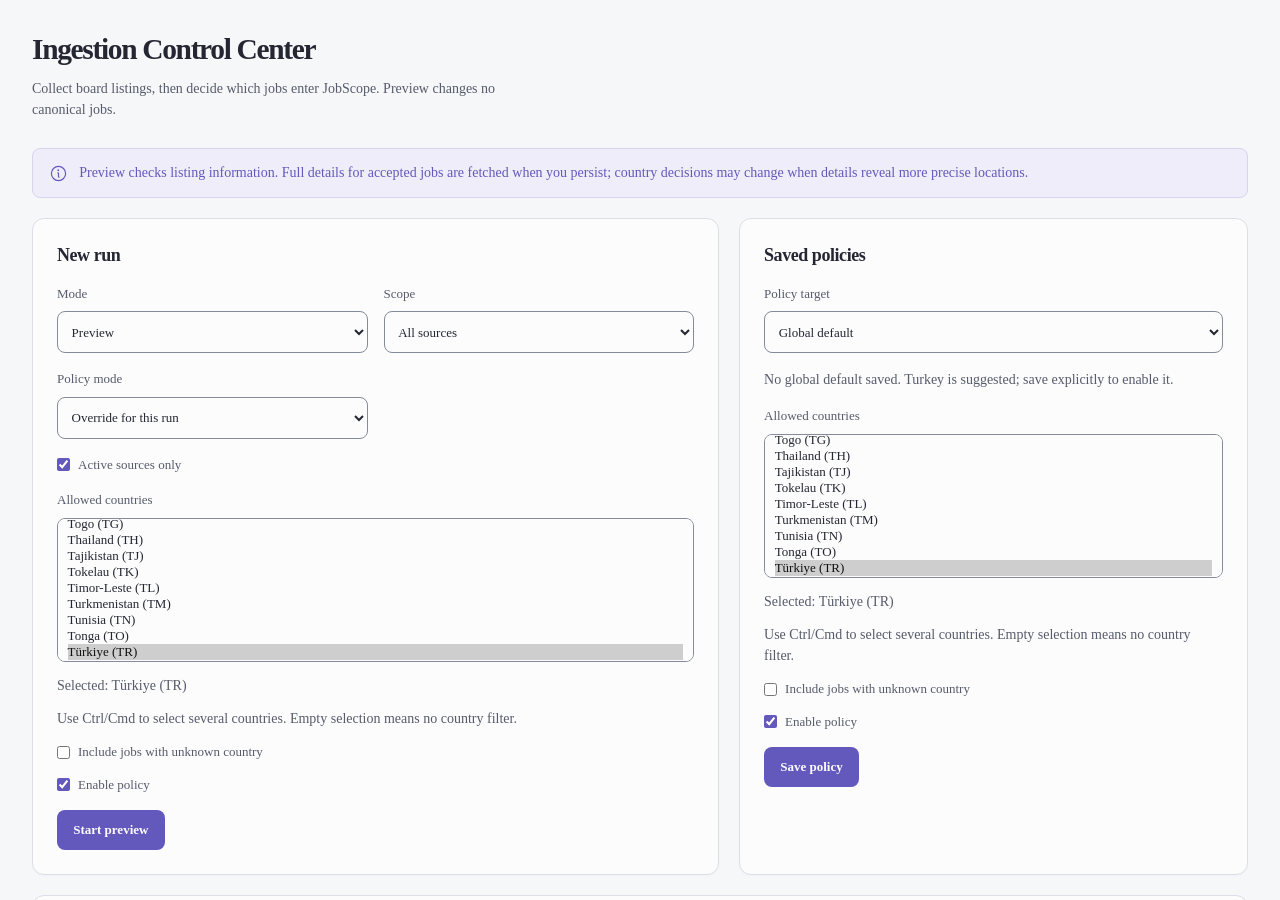
Ingestion control center › prevents duplicate submissions while waiting for the response
The image size is (1280, 900).
(page scrolled)
Check: the text "No global default saved" is shown, box [764, 372, 1174, 387]
Click the button "Start preview" at x=111, y=830, box [57, 810, 165, 850]
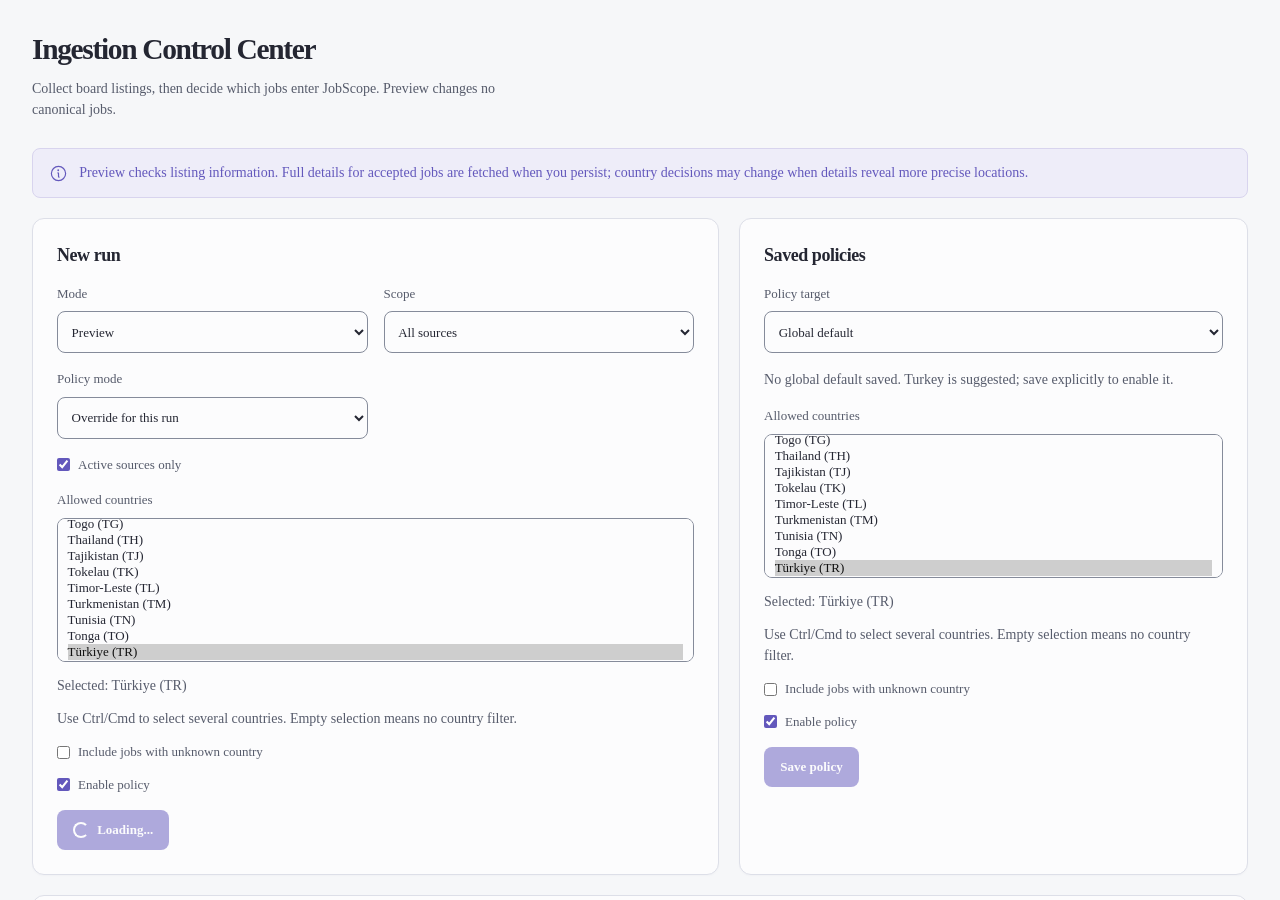
Check: the button "Loading..." is disabled, box [57, 810, 169, 850]
